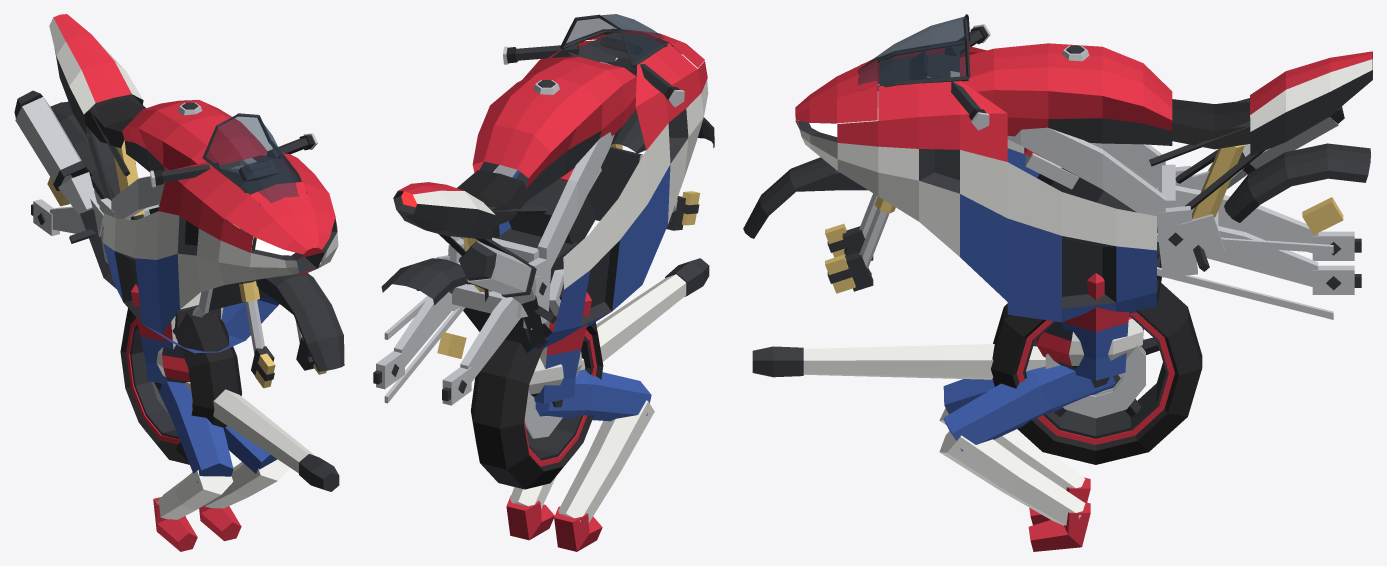
The model's file is bike_low.glb.
The picture shows the model from 3 angles, left to right: view 1: azimuth 30°, elevation 25°; view 2: azimuth 150°, elevation 25°; view 3: azimuth 270°, elevation 25°; orthographic projection. The views are drawn at different scales.
Parts seen in each view (by area): view 1: body, frame, wheelRear, legR, fork, bubble, armL, legL, wheelFront, torso, helmet, headlight; view 2: body, frame, wheelRear, legR, armL, wheelFront, bubble, torso, fork, legL, helmet; view 3: body, frame, wheelRear, legL, armL, fork, bubble, legR, torso, helmet, wheelFront.
Boxes of the visible parts, box(x1,y1,x2,y2) form: body: box(49, 14, 338, 353); frame: box(14, 90, 317, 328); wheelRear: box(120, 308, 241, 464); legR: box(153, 381, 233, 551); fork: box(226, 220, 344, 388); bubble: box(202, 113, 307, 205); armL: box(184, 382, 339, 491); legL: box(199, 426, 289, 541); wheelFront: box(138, 311, 231, 431); torso: box(131, 284, 223, 384); helmet: box(156, 342, 189, 383); headlight: box(251, 219, 337, 260); body: box(393, 28, 708, 352); frame: box(373, 32, 684, 405); wheelRear: box(470, 322, 603, 489); legR: box(535, 369, 654, 551); armL: box(579, 258, 709, 370); wheelFront: box(477, 339, 582, 455); bubble: box(560, 14, 674, 67); torso: box(534, 292, 591, 403); fork: box(607, 57, 714, 230); legL: box(506, 477, 555, 540); helmet: box(528, 352, 582, 396); body: box(795, 43, 1372, 322); frame: box(880, 24, 1370, 319); wheelRear: box(991, 279, 1202, 464); legL: box(939, 365, 1115, 551); armL: box(752, 344, 1045, 379); fork: box(743, 75, 939, 293); bubble: box(858, 14, 970, 90); legR: box(939, 379, 1090, 525); torso: box(1062, 273, 1129, 380); helmet: box(1036, 317, 1143, 368); wheelFront: box(993, 286, 1202, 431).
Bounding box in the file's own units: 0.6417 × 1.68 × 1.85.
